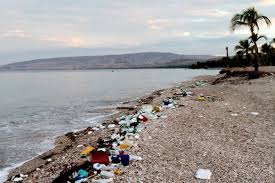garbage: (71, 151, 134, 183), (94, 138, 132, 180), (119, 115, 147, 158)
